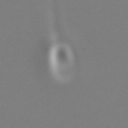normal: (36, 1, 71, 40)
